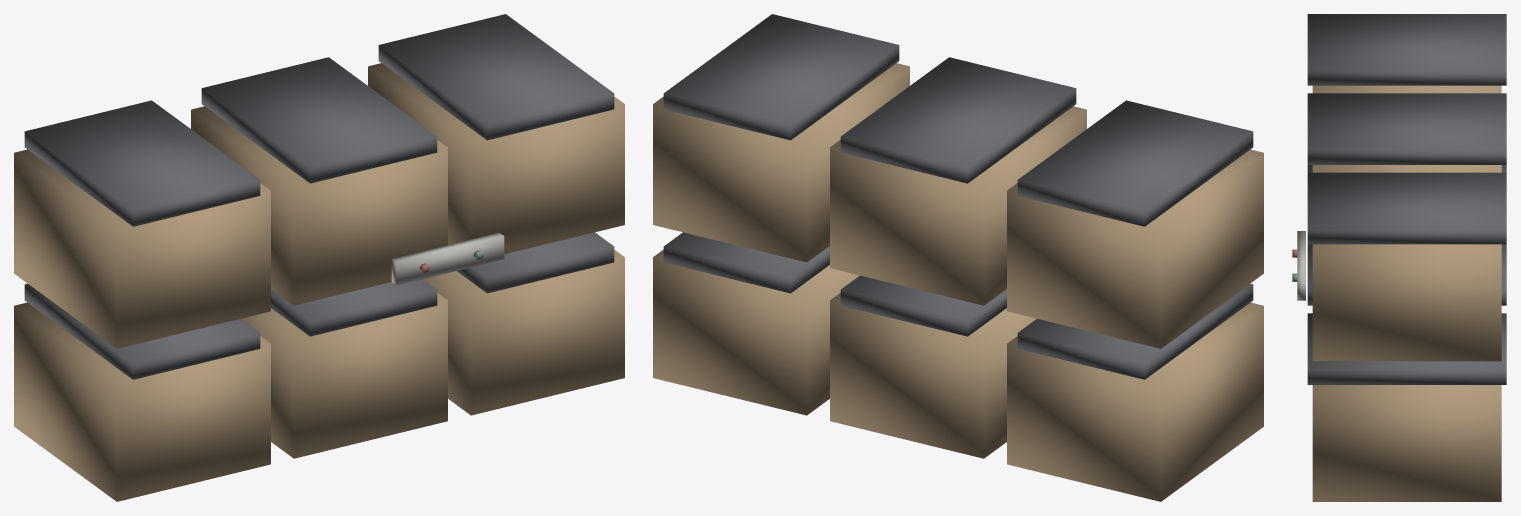
The model's file is fruit_crate_display__deep.glb.
3 views of the same model, side by side, from view 1: azimuth 30°, elevation 25°; view 2: azimuth 150°, elevation 25°; view 3: azimuth 270°, elevation 25° (orthographic). The views are drawn at different scales.
Parts seen in each view (by area): view 1: world; view 2: world; view 3: world.
Part boxes in pixels (x1,y1,x2,y2): world: (14, 14, 624, 501); world: (653, 14, 1263, 501); world: (1292, 14, 1506, 501).
Size of the model in its own units: 1.32 by 0.72 by 0.5258.
